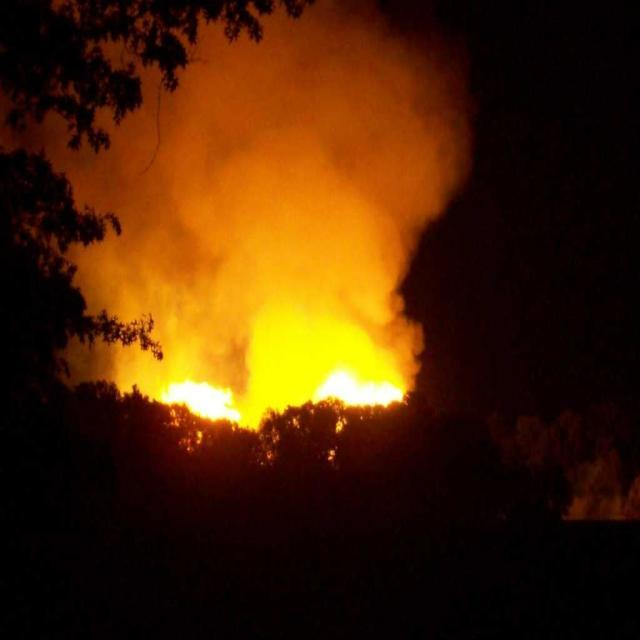Fire: (321, 370, 425, 430), (144, 376, 248, 434)
Smoke: (154, 98, 428, 270)
